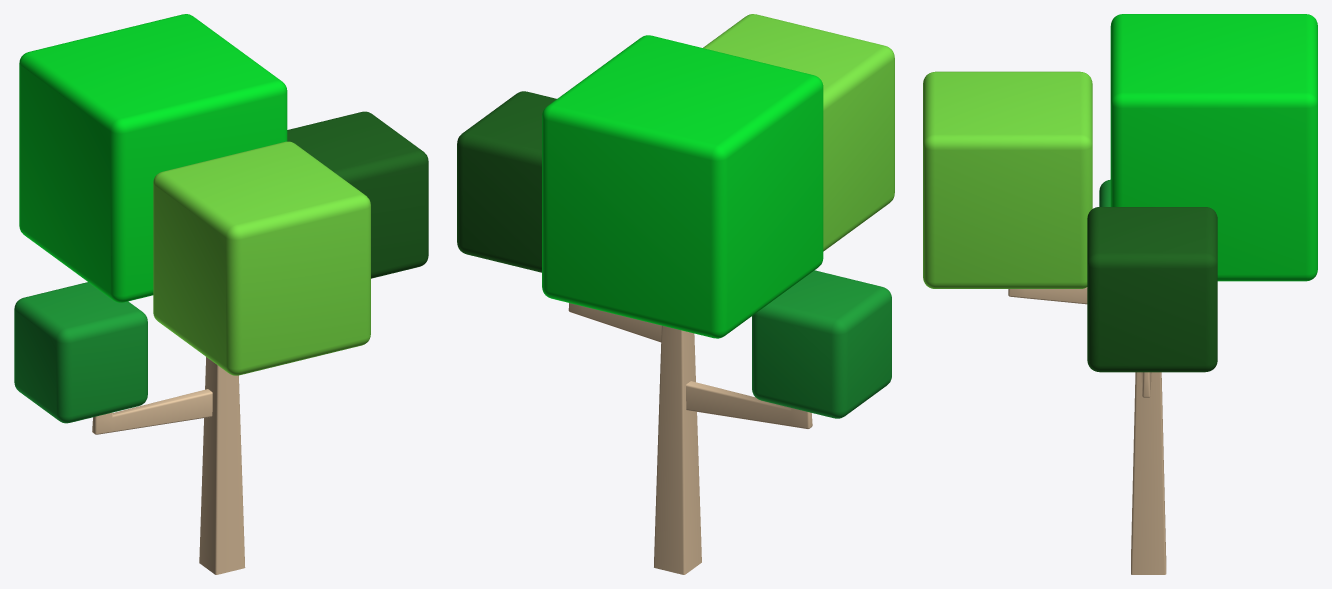
Rendered from ChaoticGarden-collection7.fbx.
The picture shows the model from 3 angles, left to right: view 1: azimuth 30°, elevation 25°; view 2: azimuth 150°, elevation 25°; view 3: azimuth 270°, elevation 25°; orthographic projection. The views are drawn at different scales.
Parts seen in each view (by area): view 1: SM_Baum_001; view 2: SM_Baum_001; view 3: SM_Baum_001.
Part boxes in pixels (<box>): SM_Baum_001: <box>14,14,428,574</box>; SM_Baum_001: <box>457,14,894,574</box>; SM_Baum_001: <box>923,14,1317,574</box>.
Bounding box in the file's own units: 609 × 772 × 558.
